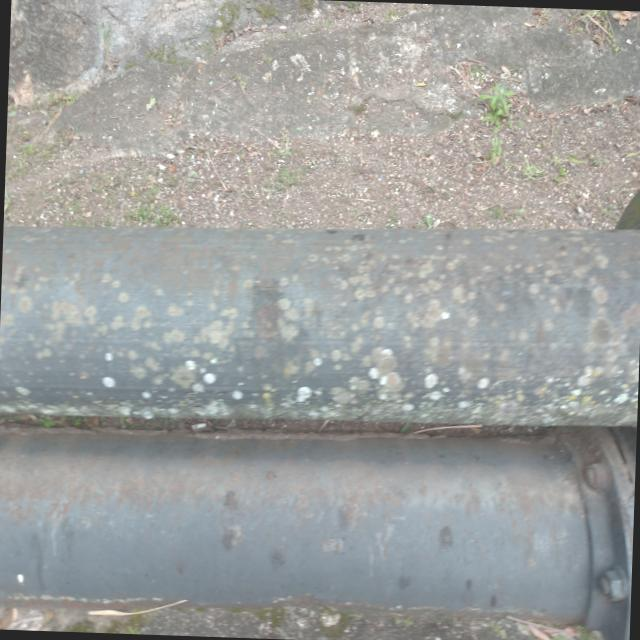gas: (0, 203, 640, 436)
